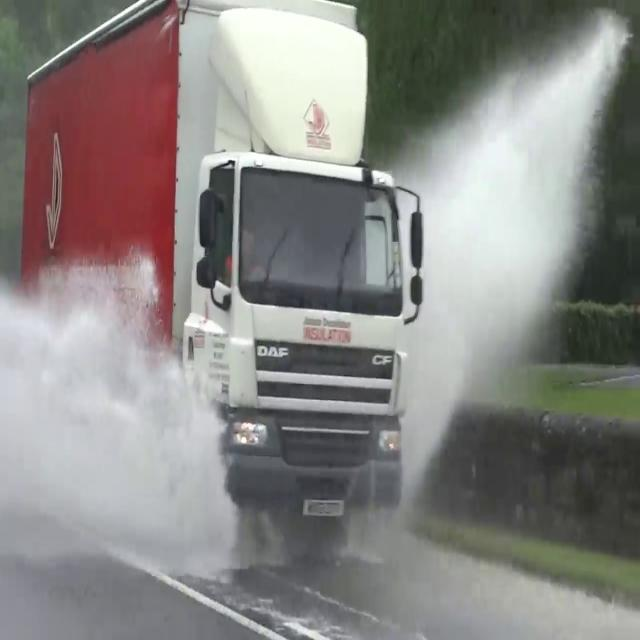license-plate-annotation: (305, 493, 349, 522)
